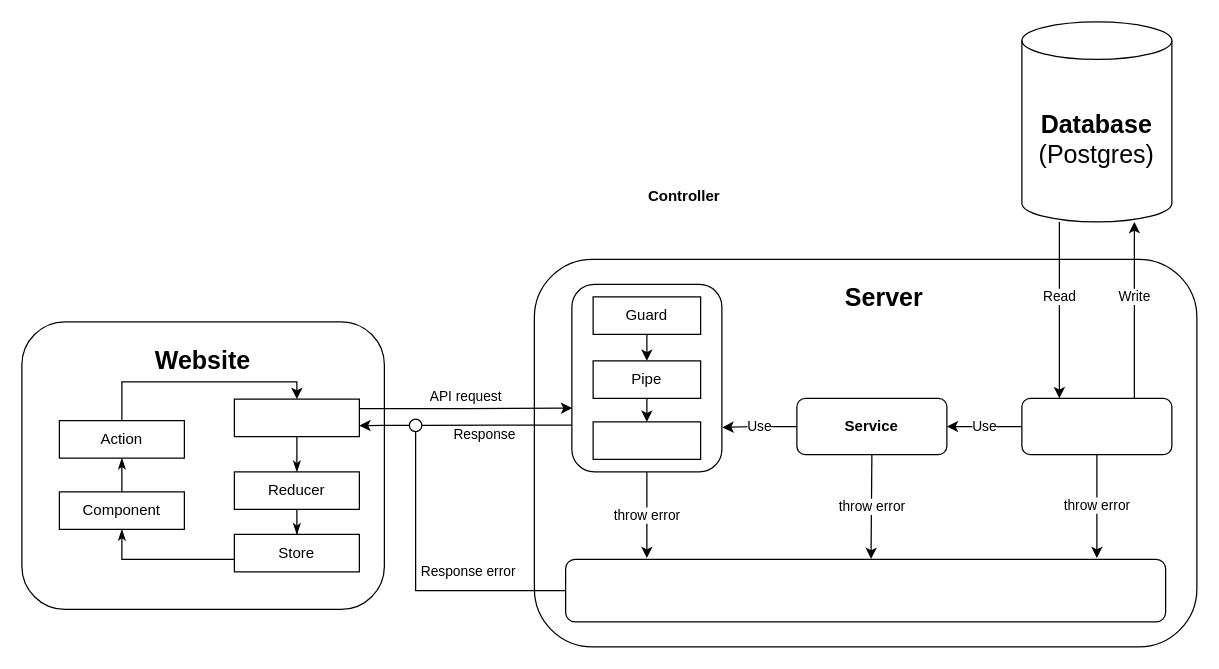
Some shapes in this 1219 by 669 pixel diagram are drawn without their labels. Each missing label, with the centre of its shape:
"Exception filter" goes at [865,590].
"Handlers" goes at [646,440].
"Middlewares" goes at [296,417].
"Models" goes at [1096,426].
